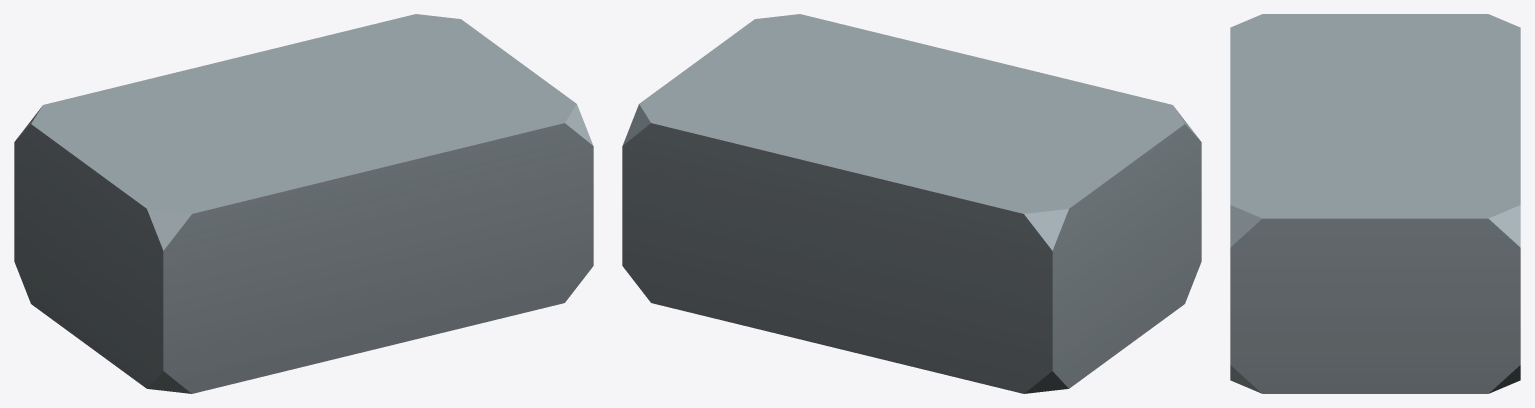
Rendered from Pedra refinada.fbx.
3 views of the same model, side by side, from view 1: azimuth 30°, elevation 25°; view 2: azimuth 150°, elevation 25°; view 3: azimuth 270°, elevation 25° (orthographic). The views are drawn at different scales.
Parts seen in each view (by area): view 1: Pedra refinada; view 2: Pedra refinada; view 3: Pedra refinada.
Boxes of the visible parts, x1=… form: Pedra refinada: x1=14, y1=14, x2=593, y2=393; Pedra refinada: x1=622, y1=14, x2=1201, y2=393; Pedra refinada: x1=1230, y1=14, x2=1520, y2=393.
Size of the model in its own units: 136 by 54.36 by 81.53.
